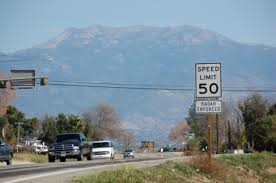speedLimit50: (194, 61, 224, 99)
